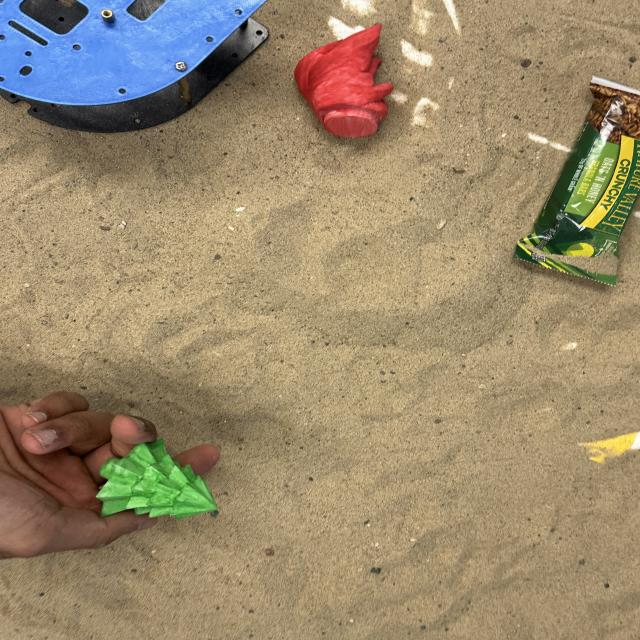fire: (294, 22, 396, 143)
house: (94, 438, 218, 520)
